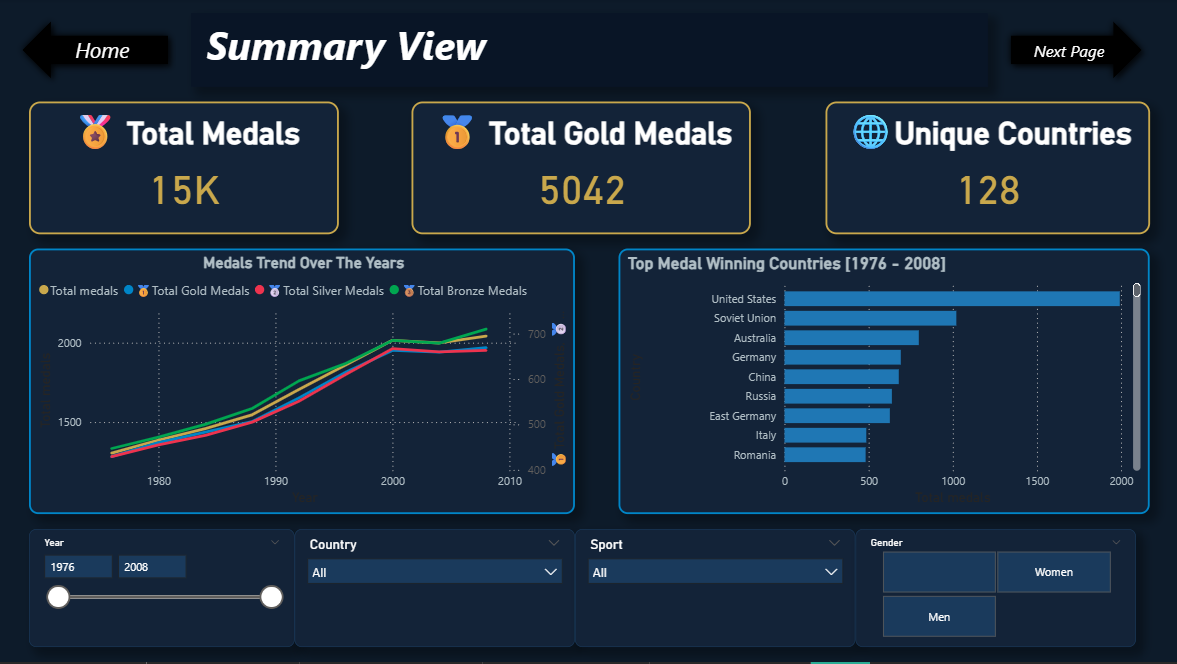

The dashboard page shown, as its layout file describes it:
{"tool":"powerbi","page":{"name":"Summary View","canvas":[1280,720],"ordinal":1},"visuals":[{"type":"textbox","box":[208,16,864,80],"z":0},{"type":"shape","box":[16,16,176,80],"z":1000},{"type":"card","title":"🏅 Total Medals","fields":{"Values":["Summer-Olympic-medals-1976-to-2008.Total medals"]},"box":[32,112,336,144],"z":2000},{"type":"card","title":"🥇 Total Gold Medals","fields":{"Values":["Summer-Olympic-medals-1976-to-2008.Total Gold Medals"]},"box":[448,112,368,144],"z":3000},{"type":"card","title":"🌐Unique Countries","fields":{"Values":["Summer-Olympic-medals-1976-to-2008.Unique Countries"]},"box":[896,112,352,144],"z":4000},{"type":"lineChart","fields":{"Y":["Summer-Olympic-medals-1976-to-2008.Total medals"],"Category":["Summer-Olympic-medals-1976-to-2008.Year"],"Y2":["Summer-Olympic-medals-1976-to-2008.Total Gold Medals","Summer-Olympic-medals-1976-to-2008.Total Silver Medals","Summer-Olympic-medals-1976-to-2008.Total Bronze Medals"]},"box":[32,272,592,288],"z":5000},{"type":"barChart","title":"Top Medal Winning Countries [1976 - 2008]","fields":{"Category":["Summer-Olympic-medals-1976-to-2008.Country"],"Y":["Summer-Olympic-medals-1976-to-2008.Total medals"]},"box":[672,272,576,288],"z":6000},{"type":"slicer","fields":{"Values":["Summer-Olympic-medals-1976-to-2008.Year"]},"box":[32,576,288,128],"z":7000},{"type":"slicer","fields":{"Values":["Summer-Olympic-medals-1976-to-2008.Country"]},"box":[320,576,304,128],"z":8000},{"type":"slicer","fields":{"Values":["Summer-Olympic-medals-1976-to-2008.Sport"]},"box":[624,576,304,128],"z":9000},{"type":"slicer","fields":{"Values":["Summer-Olympic-medals-1976-to-2008.Gender"]},"box":[928,576,304,128],"z":10000},{"type":"shape","box":[1088,16,160,80],"z":11000}]}

Visuals, with their boxes in screenshot pixels (x1, y1, x2, y2), scaled from the page's 1280x720 canvas onto the 1177x664 screenshot:
textbox: 191/15/986/89
shape: 15/15/177/89
"🏅 Total Medals" card: 29/103/338/236
"🥇 Total Gold Medals" card: 412/103/750/236
"🌐Unique Countries" card: 824/103/1148/236
lineChart - Summer-Olympic-medals-1976-to-2008.Total medals x Summer-Olympic-medals-1976-to-2008.Year: 29/251/574/516
"Top Medal Winning Countries [1976 - 2008]" barChart: 618/251/1148/516
slicer - Summer-Olympic-medals-1976-to-2008.Year: 29/531/294/649
slicer - Summer-Olympic-medals-1976-to-2008.Country: 294/531/574/649
slicer - Summer-Olympic-medals-1976-to-2008.Sport: 574/531/853/649
slicer - Summer-Olympic-medals-1976-to-2008.Gender: 853/531/1133/649
shape: 1000/15/1148/89
